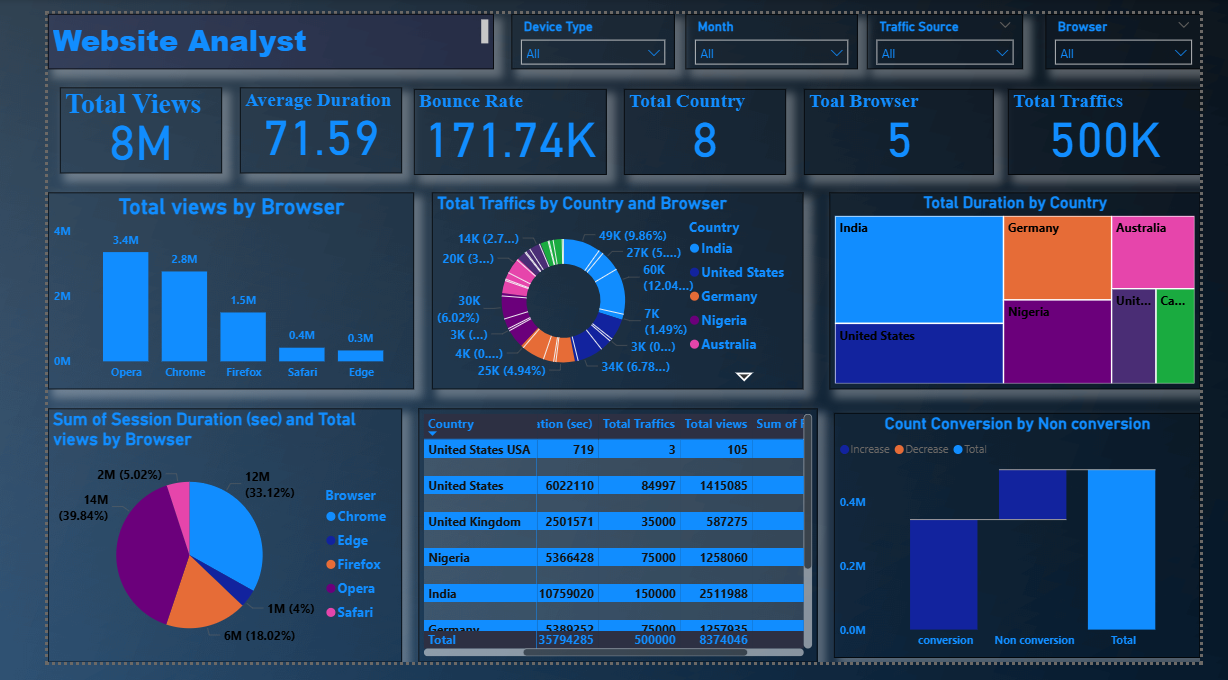

What the dashboard file says about the page in this screenshot:
{"tool":"powerbi","page":{"name":"Page 1","canvas":[1280,720],"ordinal":0},"visuals":[{"type":"textbox","box":[0,0,495.5,61.5],"z":0},{"type":"slicer","fields":{"Values":["Table1.Device Type"]},"box":[514.9,0,181.4,61.5],"z":1000},{"type":"slicer","fields":{"Values":["Table1.Month"]},"box":[707.6,0,191.1,61.5],"z":2000},{"type":"slicer","fields":{"Values":["Table1.Traffic Source"]},"box":[910,0,173.3,61.5],"z":3000},{"type":"slicer","fields":{"Values":["Table1.Browser"]},"box":[1107.6,0,173.3,61.5],"z":4000},{"type":"card","title":"Total Views","fields":{"Values":["Measures (2).Total views"]},"box":[13,81,179.7,95.5],"z":5000},{"type":"card","title":"Average Duration","fields":{"Values":["Measures (2).Average Duration"]},"box":[213.7,81,179.7,95.5],"z":6000},{"type":"card","title":"Bounce Rate","fields":{"Values":["Sum(Table1.Bounce Rate (%))"]},"box":[406.4,82.6,213.7,95.5],"z":7000},{"type":"card","title":"Total Country","fields":{"Values":["Measures (2).Total Country"]},"box":[639.6,82.6,179.7,95.5],"z":8000},{"type":"card","title":"Toal Browser","fields":{"Values":["Measures (2).Total Browser"]},"box":[840.4,82.6,210.5,95.5],"z":9000},{"type":"card","title":"Total Traffics","fields":{"Values":["Measures (2).Total Traffics"]},"box":[1067.1,82.6,213.7,95.5],"z":10000},{"type":"columnChart","fields":{"Category":["Table1.Browser"],"Y":["Measures (2).Total views"]},"box":[0,197.5,406.4,218.6],"z":11000},{"type":"donutChart","fields":{"Category":["Table1.Country"],"Series":["Table1.Browser"],"Y":["Measures (2).Total Traffics"]},"box":[427.5,197.5,412.9,218.6],"z":12000},{"type":"treemap","title":"Total Duration by Country","fields":{"Group":["Table1.Country"],"Values":["Sum(Table1.Session Duration (sec))"]},"box":[868.3,198.3,411.7,218.3],"z":13000},{"type":"waterfallChart","title":"Count Conversion by Non conversion","fields":{"Category":["Table1.Conversion1"],"Y":["CountNonNull(Table1.Conversion1)"]},"box":[873.3,443.3,406.7,271.7],"z":14000},{"type":"pivotTable","title":"Count Conversion by Non conversion","fields":{"Rows":["Table1.Country"],"Values":["Sum(Table1.Session Duration (sec))","Measures (2).Total Traffics","Measures (2).Total views","Sum(Table1.Page Views)"]},"box":[411.7,438.3,443.3,281.7],"z":15000},{"type":"pieChart","fields":{"Series":["Table1.Browser"],"Y":["Sum(Table1.Session Duration (sec))"]},"box":[0,438.3,393.3,281.7],"z":16000}]}

Visuals, with their boxes in screenshot pixels (x1, y1, x2, y2), scaled from the page's 1280x720 canvas onto the 1228x680 screenshot:
textbox: BBox(0, 0, 475, 58)
slicer - Table1.Device Type: BBox(494, 0, 668, 58)
slicer - Table1.Month: BBox(679, 0, 862, 58)
slicer - Table1.Traffic Source: BBox(873, 0, 1039, 58)
slicer - Table1.Browser: BBox(1063, 0, 1227, 58)
"Total Views" card: BBox(12, 76, 185, 167)
"Average Duration" card: BBox(205, 76, 377, 167)
"Bounce Rate" card: BBox(390, 78, 595, 168)
"Total Country" card: BBox(614, 78, 786, 168)
"Toal Browser" card: BBox(806, 78, 1008, 168)
"Total Traffics" card: BBox(1024, 78, 1227, 168)
columnChart - Table1.Browser x Measures (2).Total views: BBox(0, 187, 390, 393)
donutChart - Table1.Country x Table1.Browser: BBox(410, 187, 806, 393)
"Total Duration by Country" treemap: BBox(833, 187, 1227, 393)
"Count Conversion by Non conversion" waterfallChart: BBox(838, 419, 1227, 675)
"Count Conversion by Non conversion" pivotTable: BBox(395, 414, 820, 679)
pieChart - Table1.Browser x Sum(Table1.Session Duration (sec)): BBox(0, 414, 377, 679)
